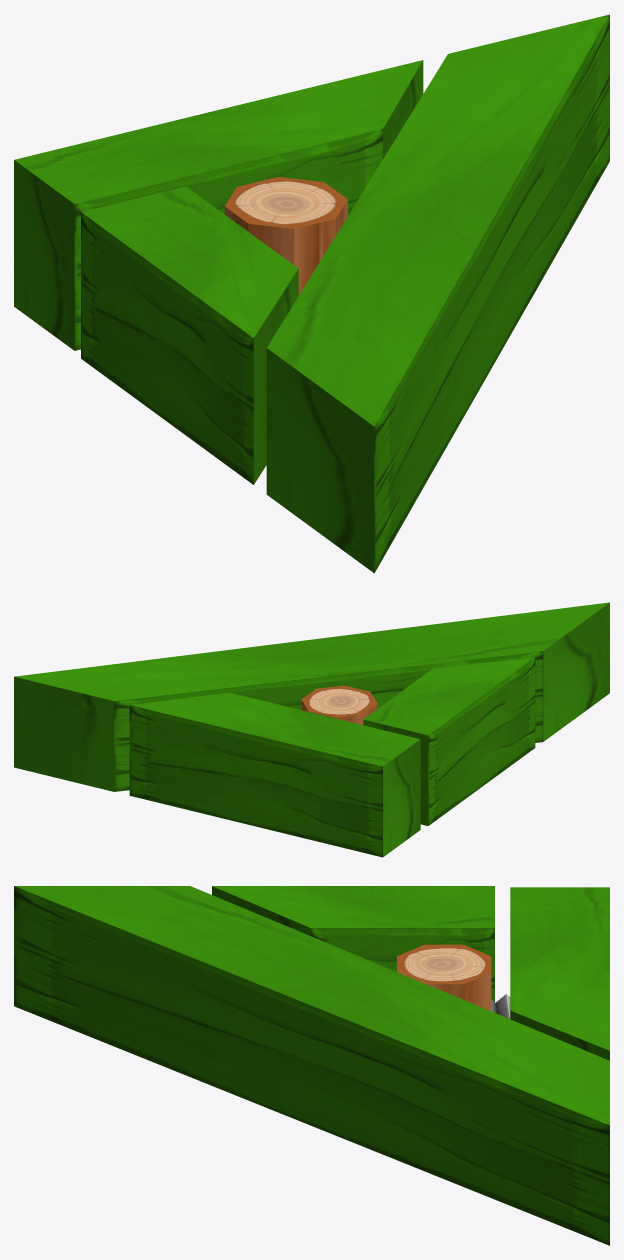
The model's file is triangle_green_01.fbx.
3 renders of one model, top to bottom at view 1: azimuth 30°, elevation 25°; view 2: azimuth 150°, elevation 25°; view 3: azimuth 270°, elevation 25°, orthographic. The views are drawn at different scales.
Visible parts, largest first — view 1: wall_69, wall_67, wall_68, Middle_12; view 2: wall_69, wall_68, wall_67, Middle_12; view 3: wall_69, wall_68, wall_67, Middle_12.
Boxes of the visible parts, box(x1,y1,x2,y2) form: wall_69: box(266, 14, 609, 573); wall_67: box(81, 186, 298, 484); wall_68: box(14, 60, 423, 350); Middle_12: box(224, 177, 347, 295); wall_69: box(14, 602, 609, 791); wall_68: box(129, 692, 420, 857); wall_67: box(363, 657, 535, 825); Middle_12: box(301, 685, 377, 724); wall_69: box(14, 886, 609, 1245); wall_68: box(510, 887, 609, 1060); wall_67: box(212, 886, 494, 1001); Middle_12: box(397, 944, 491, 1010).
Size of the model in its own units: 171 by 40 by 180.
